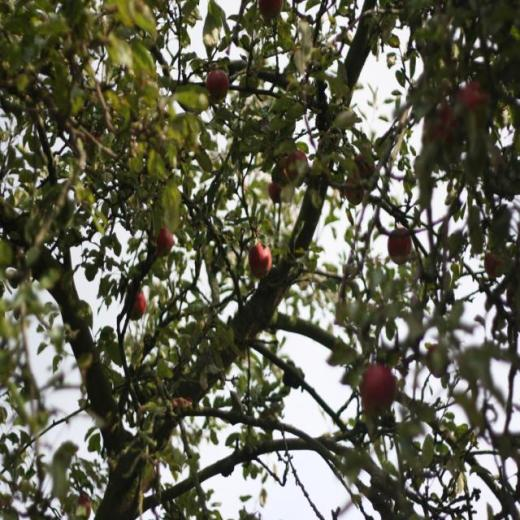Apple: (363, 360, 400, 420), (422, 106, 459, 152), (459, 81, 492, 113), (388, 228, 412, 268), (287, 151, 310, 188), (426, 344, 450, 379), (342, 170, 364, 208), (250, 246, 272, 282), (204, 71, 228, 103), (124, 291, 147, 322), (82, 133, 103, 166), (155, 226, 175, 260), (353, 153, 376, 180), (258, 0, 284, 22), (483, 253, 505, 278), (71, 495, 92, 520), (274, 158, 288, 191), (268, 182, 282, 206)
